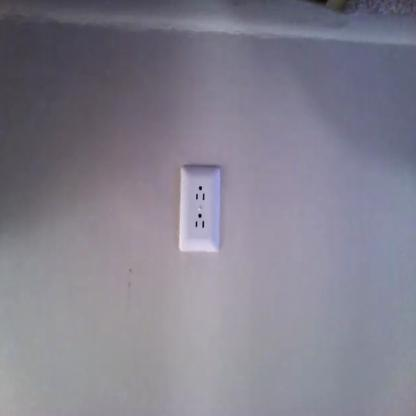OUTLET: (178, 164, 222, 254)
